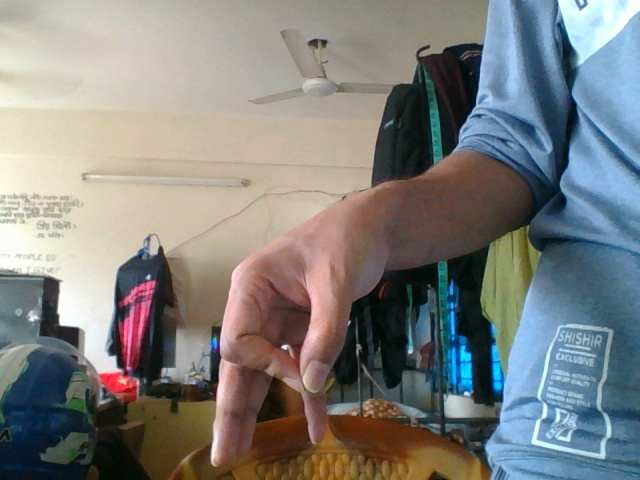pa: (209, 182, 379, 469)
